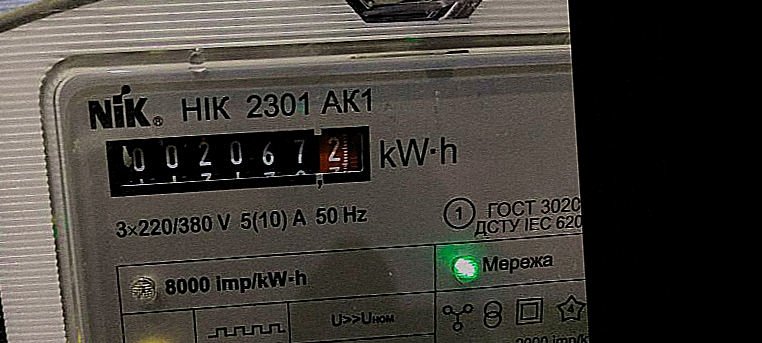0: (127, 145, 147, 175), (161, 141, 180, 170), (224, 137, 243, 166)
2: (323, 133, 342, 164), (194, 138, 212, 168)
6: (257, 138, 277, 168)
7: (290, 136, 308, 167)
screen: (90, 111, 386, 211)
